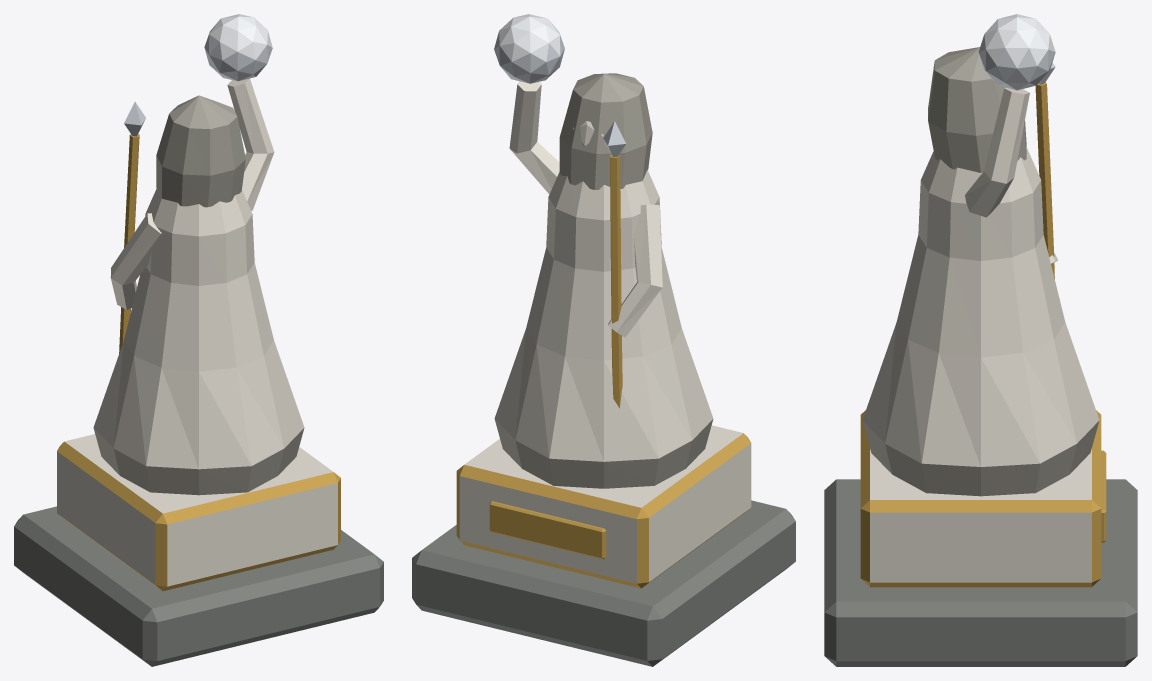
The model's file is Statue.obj.
The picture shows the model from 3 angles, left to right: view 1: azimuth 30°, elevation 25°; view 2: azimuth 150°, elevation 25°; view 3: azimuth 270°, elevation 25°; orthographic projection. The views are drawn at different scales.
Size of the model in its own units: 2.6 by 5.67 by 2.6.
